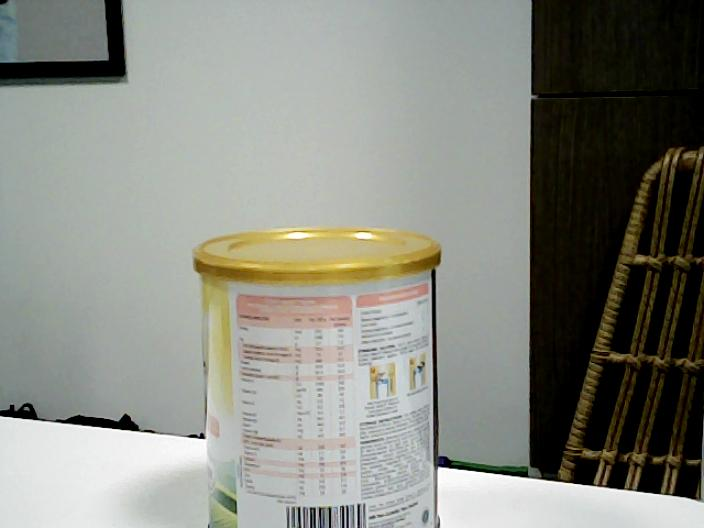MaternalMilkPowder_600-699g_NonHalal_NonHealthy: (187, 227, 441, 528)
